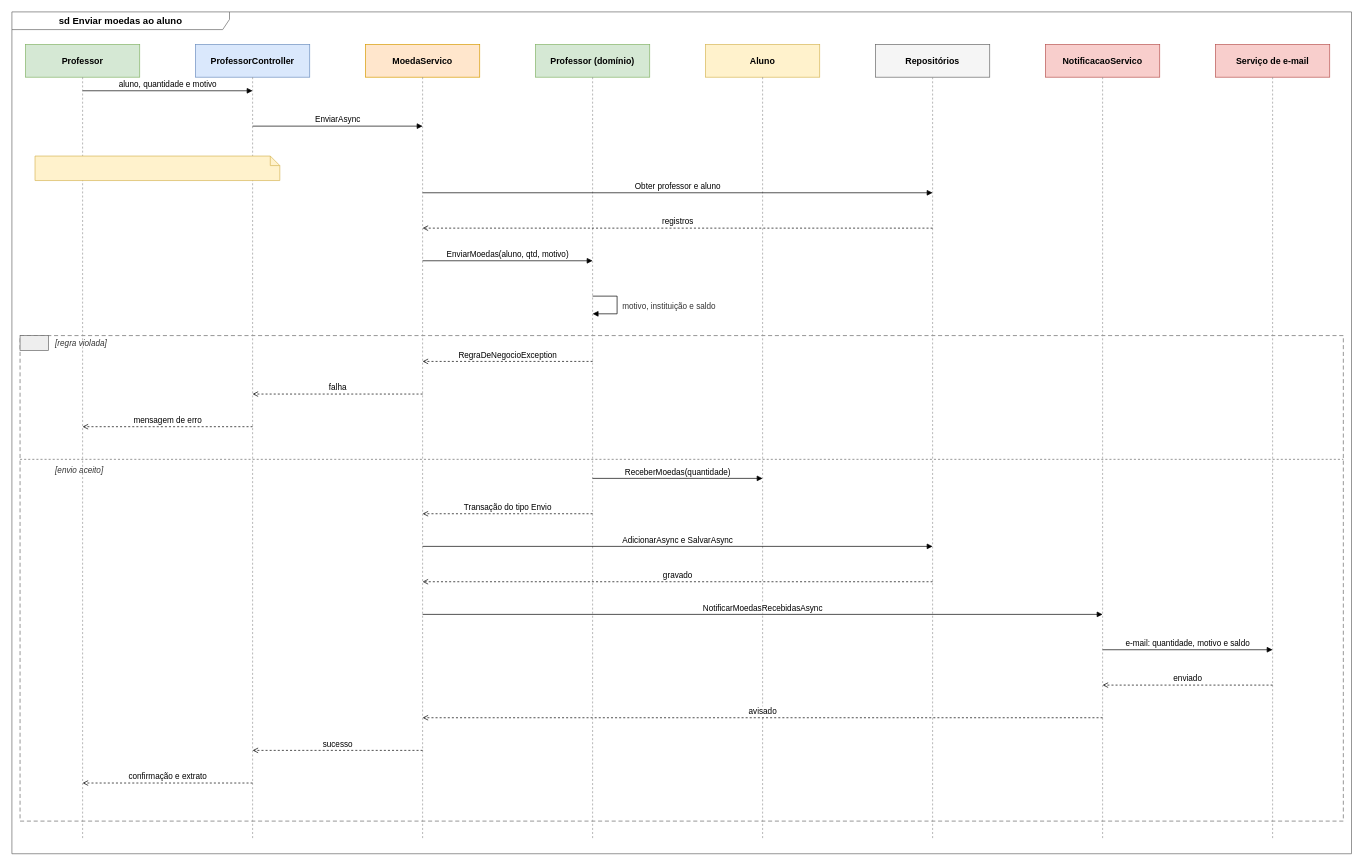
The diagram is 1363 pixels wide and 866 high, and some of its shapes have lost their labels. The centre of each missing label's shape, as x and y in pixels:
alt: (34,343)
ref sd Creditar moedas do semestre: (157,168)
